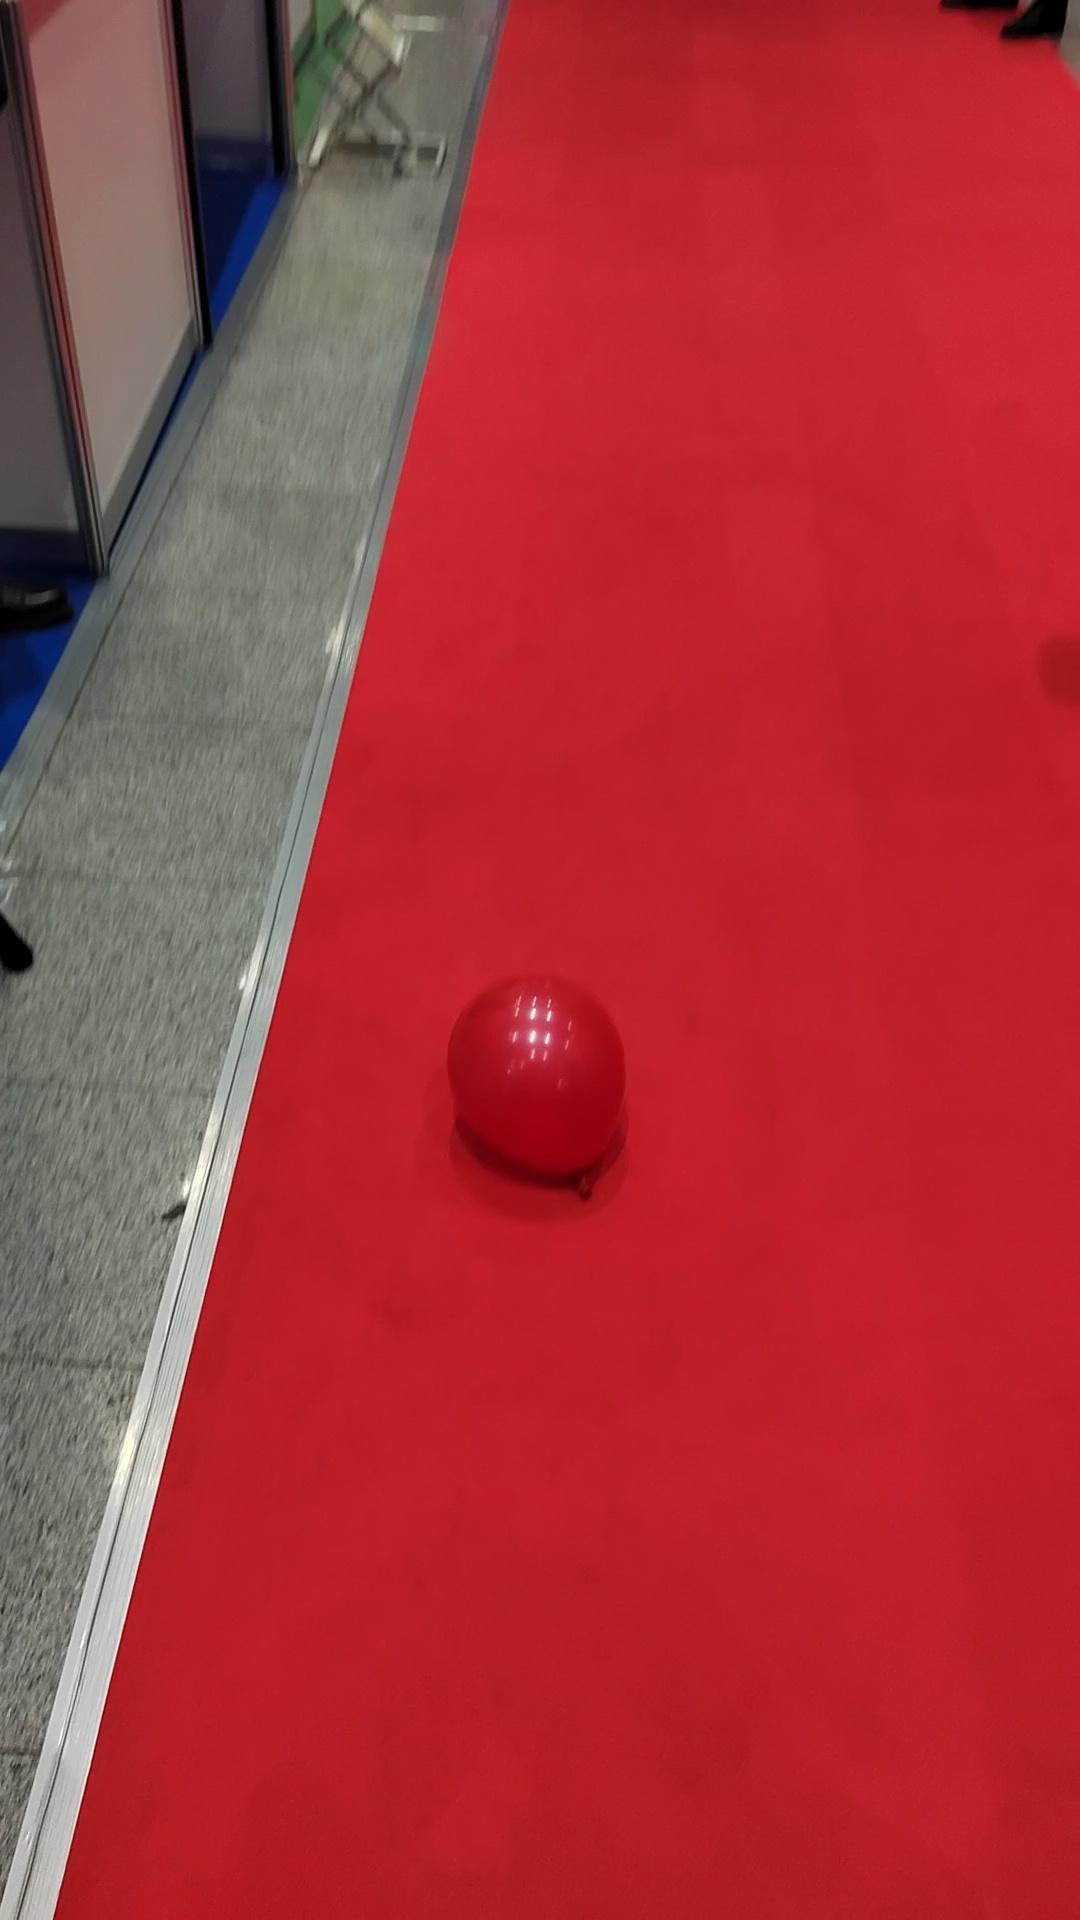red: (447, 975, 629, 1182)
